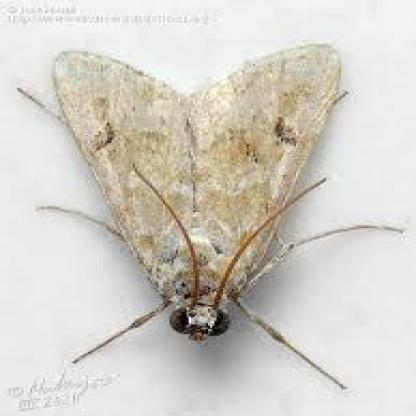Hellula undalis: (7, 42, 411, 392)
